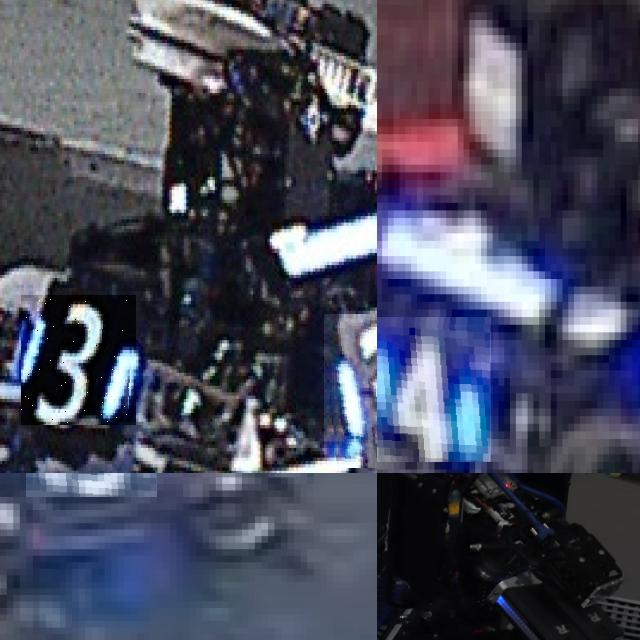B3: (21, 295, 136, 425), (324, 314, 377, 467)
B4: (377, 317, 492, 462)
B5: (26, 473, 156, 497)
